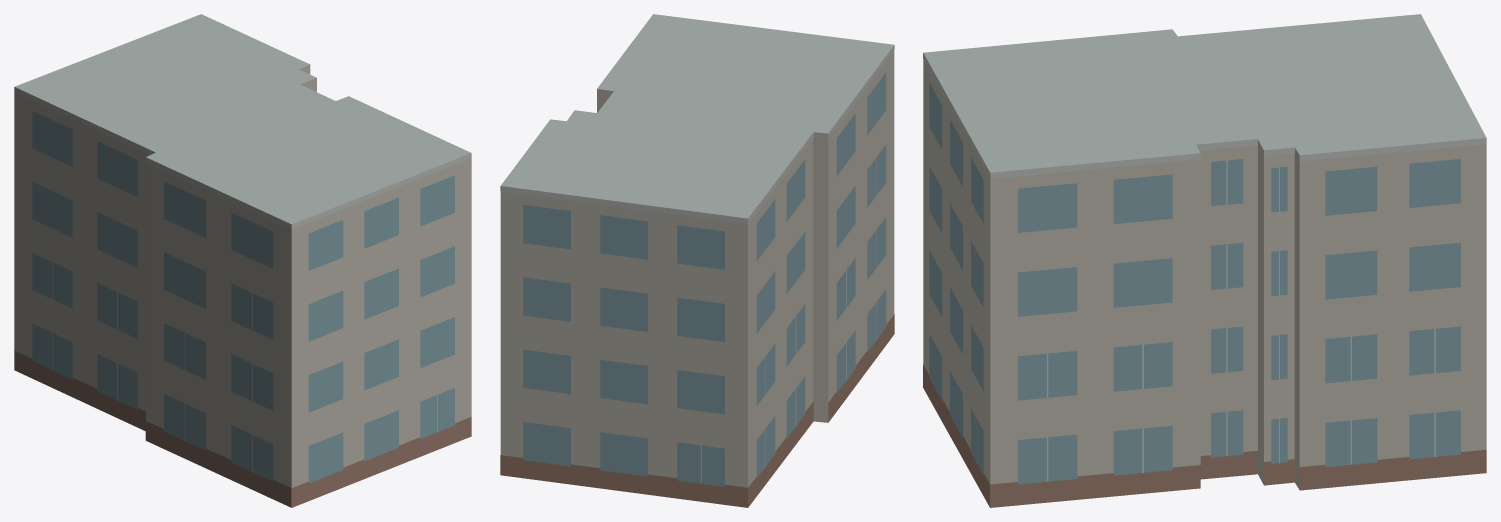
Rendered from survey-upis-32797775.glb.
3 renders of one model, left to right at view 1: azimuth 30°, elevation 25°; view 2: azimuth 150°, elevation 25°; view 3: azimuth 270°, elevation 25°, orthographic. The views are drawn at different scales.
Parts seen in each view (by area): view 1: survey-upis-32797775.tmp; view 2: survey-upis-32797775.tmp; view 3: survey-upis-32797775.tmp.
Boxes of the visible parts, x1,y1,x2,y2 form: survey-upis-32797775.tmp: (14,14,471,507); survey-upis-32797775.tmp: (500,14,894,507); survey-upis-32797775.tmp: (923,14,1486,507).
Size of the model in its own units: 13.31 by 13.1 by 19.97.
